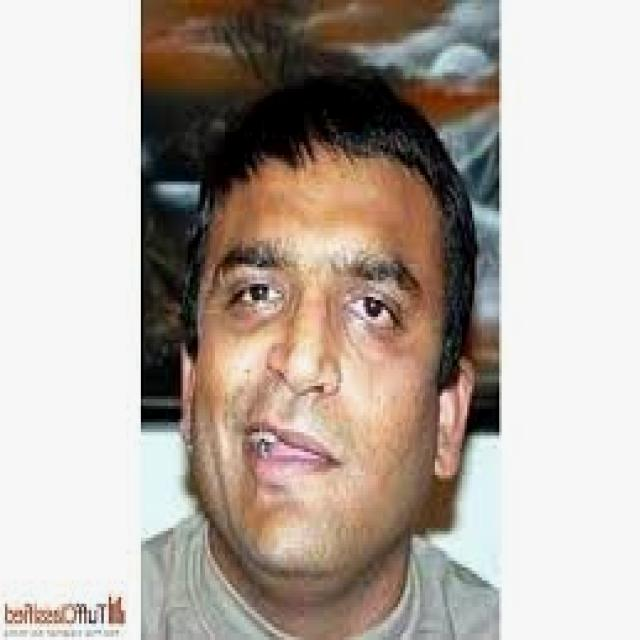stroke_face: (151, 56, 514, 610)
